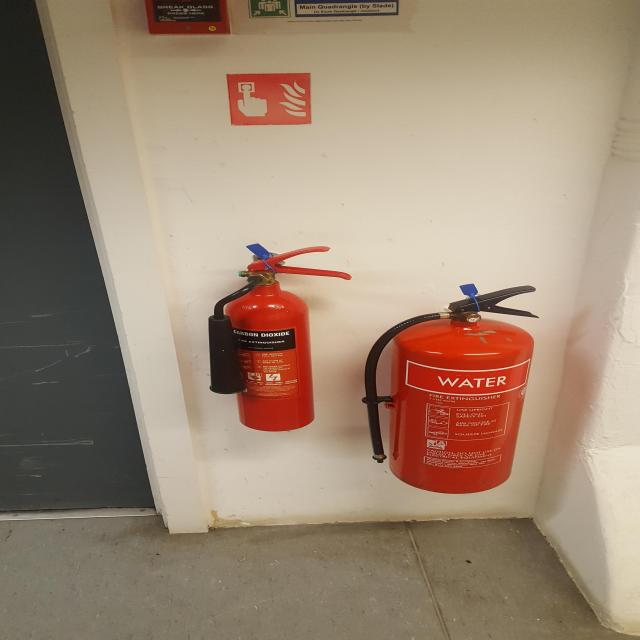fire_extinguisher: (357, 282, 544, 497), (202, 243, 360, 434)
